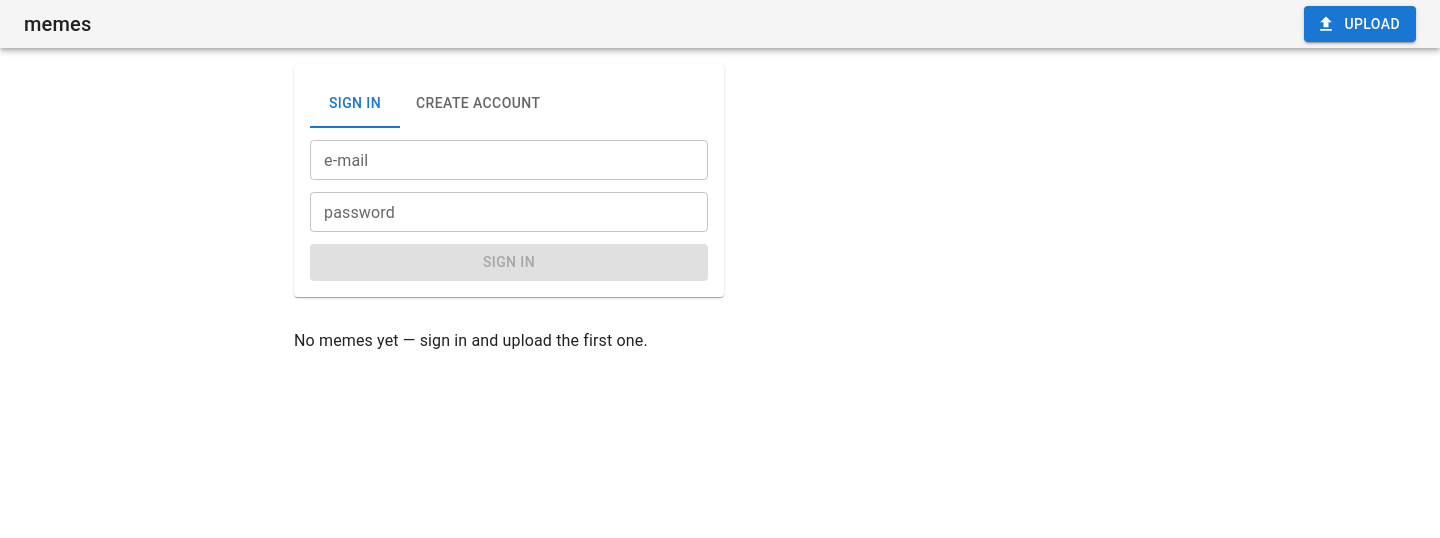
Test case: a refused registration names every rule it broke › groups the errors under their field, each code carrying the parameter in force
Click the tab "Create account" at (478, 104), box [400,80,556,128]
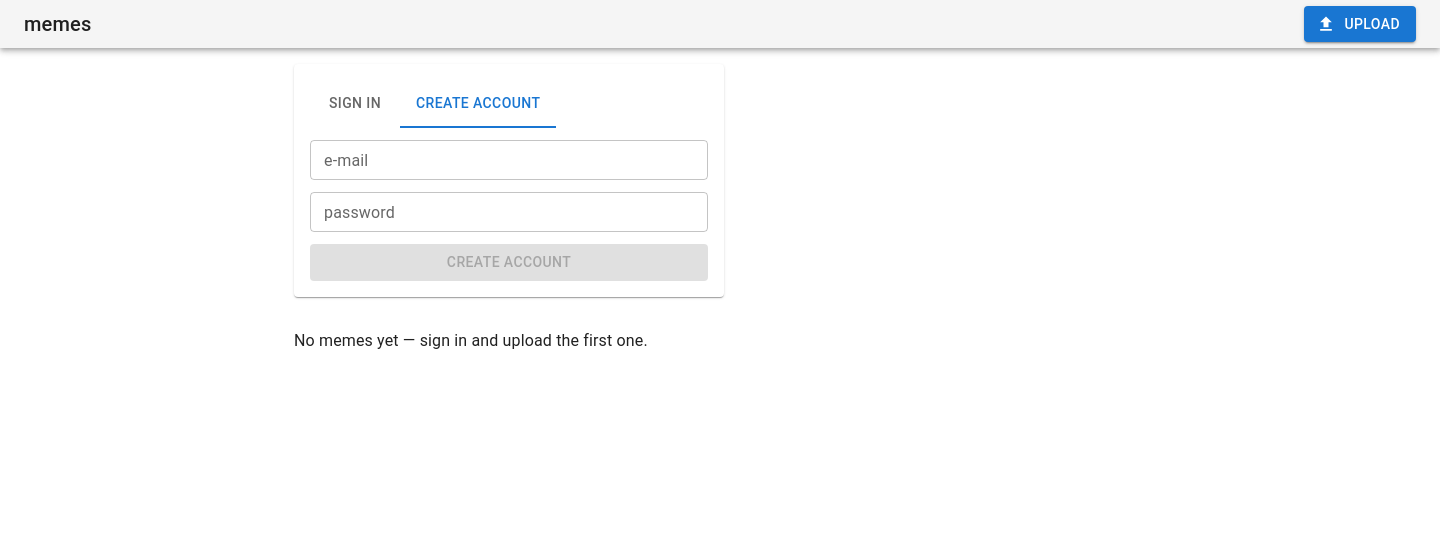
Type "taken@example.com" into the field labelled "e-mail" at (509, 160), box [310,140,708,180]
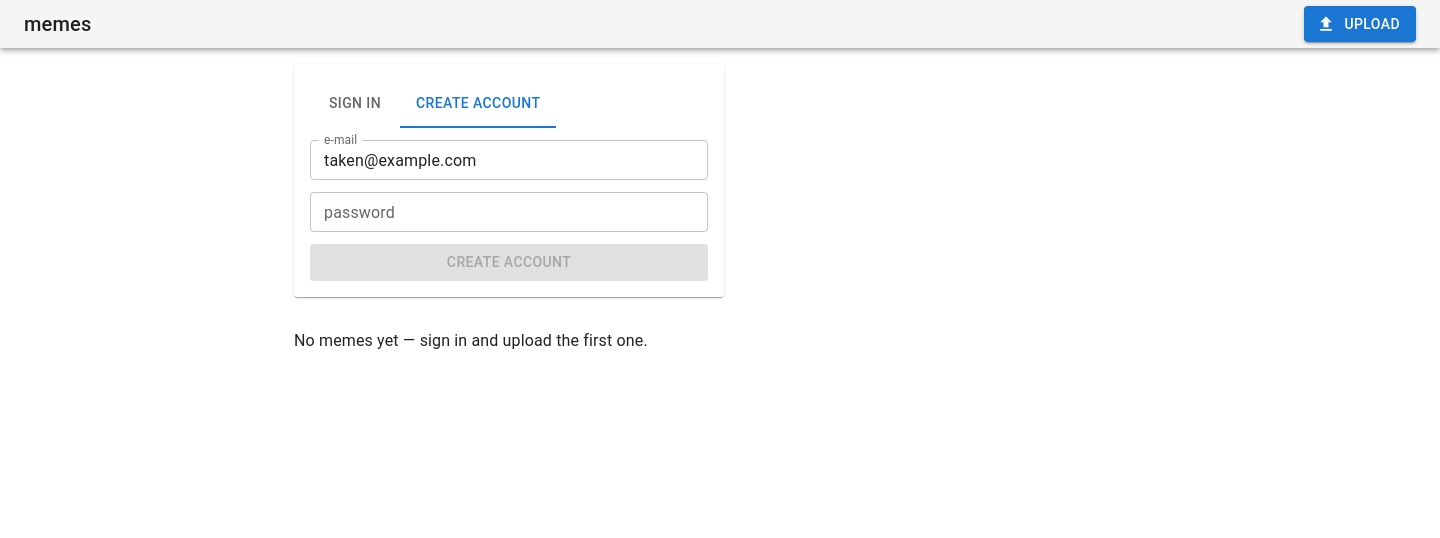
Type "short" into the password field labelled "password" at (509, 212), box [310,192,708,232]
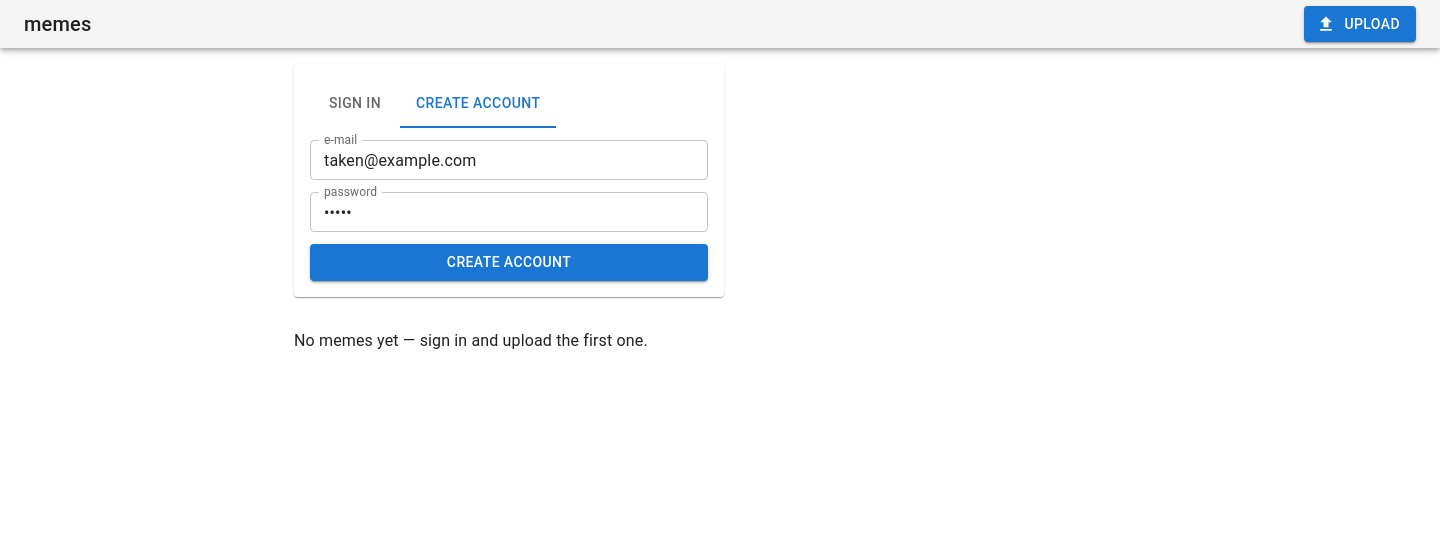
Click the button "Create account" at (509, 262), box [310,244,708,280]
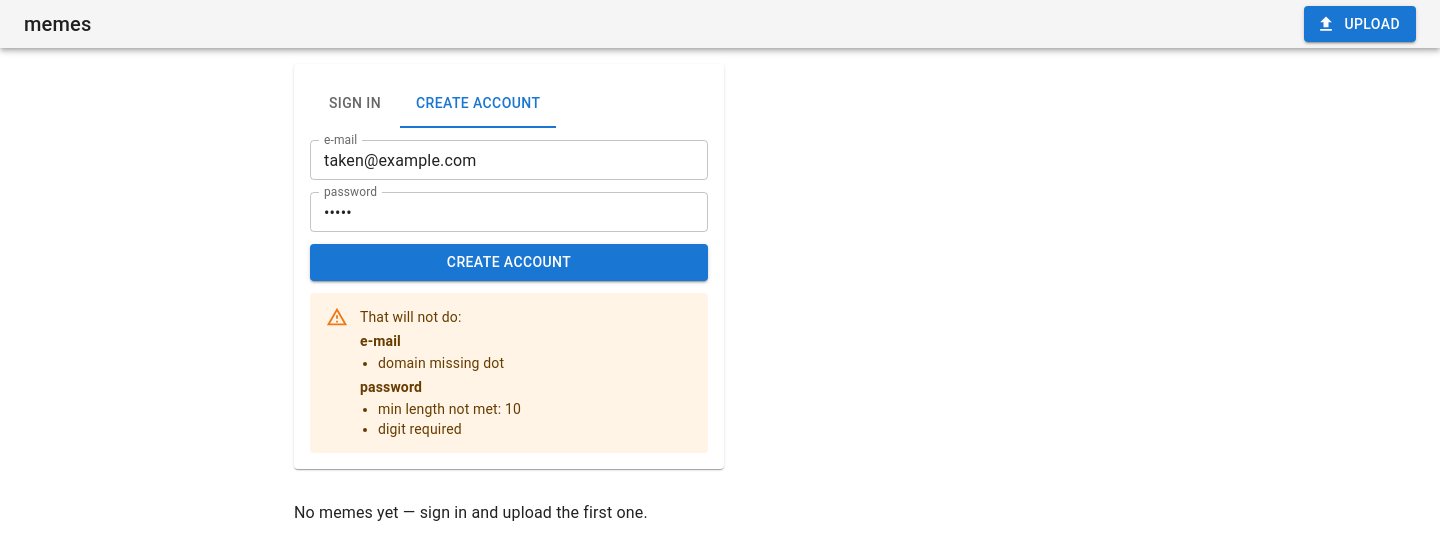
expect the text "That will not do" is shown: met, box [360,308,462,324]
